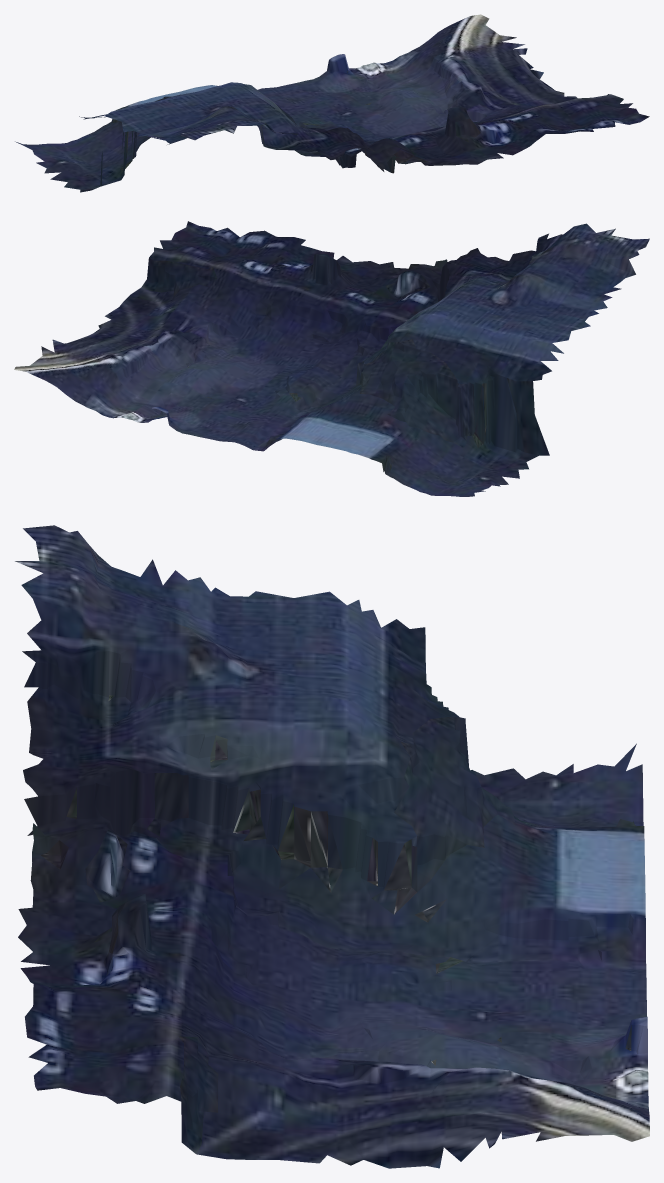
The model's file is Tile_002_002_L14_4121.glb.
The picture shows the model from 3 angles, top to bottom: view 1: azimuth 30°, elevation 25°; view 2: azimuth 150°, elevation 25°; view 3: azimuth 270°, elevation 25°; orthographic projection. The views are drawn at different scales.
Parts seen in each view (by area): view 1: rtc; view 2: rtc; view 3: rtc.
Boxes of the visible parts, x1=… form: rtc: x1=15, y1=14, x2=649, y2=192; rtc: x1=14, y1=221, x2=649, y2=496; rtc: x1=15, y1=525, x2=649, y2=1168.
Bounding box in the file's own units: 88.41 × 25.73 × 57.01.
Materials: 1 (1 with a texture image).
